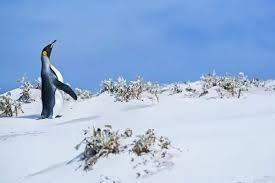king: (17, 31, 86, 132)
